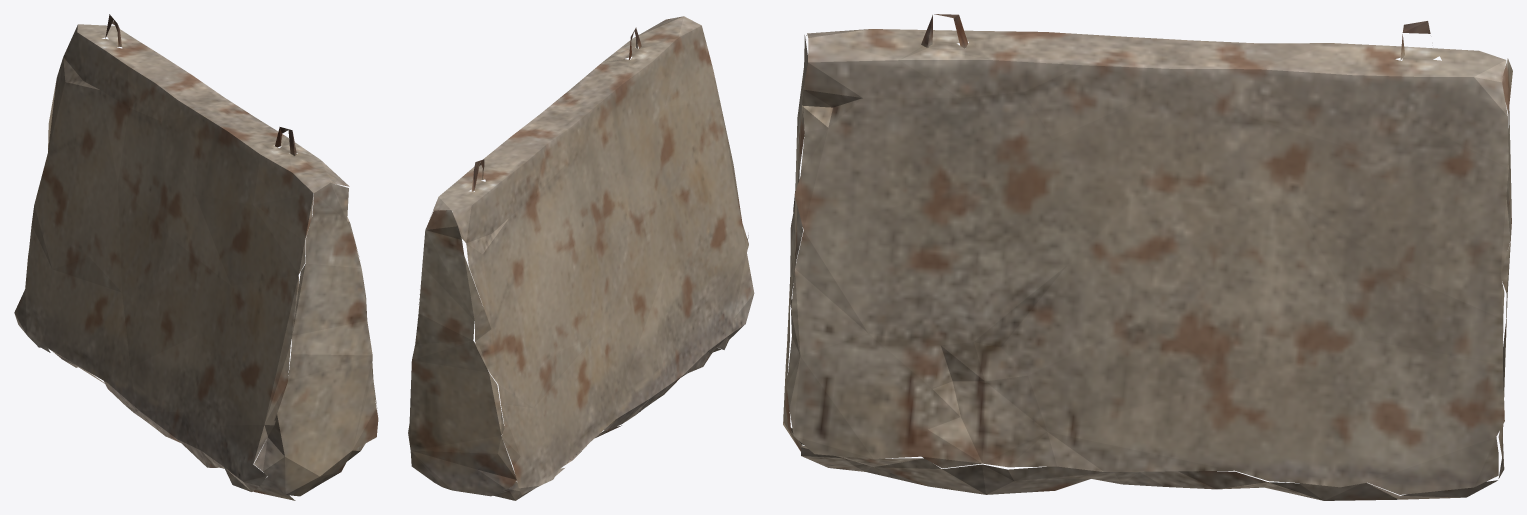
File: prop_barrier.glb
3 renders of one model, left to right at view 1: azimuth 30°, elevation 25°; view 2: azimuth 150°, elevation 25°; view 3: azimuth 270°, elevation 25°, orthographic. The views are drawn at different scales.
Parts seen in each view (by area): view 1: hull; view 2: hull; view 3: hull.
Part boxes in pixels (x1=…): hull: x1=14, y1=14, x2=378, y2=500; hull: x1=408, y1=16, x2=754, y2=500; hull: x1=783, y1=14, x2=1512, y2=500.
Size of the model in its own units: 0.5648 by 1.41 by 2.
1 material, 1 textured.
